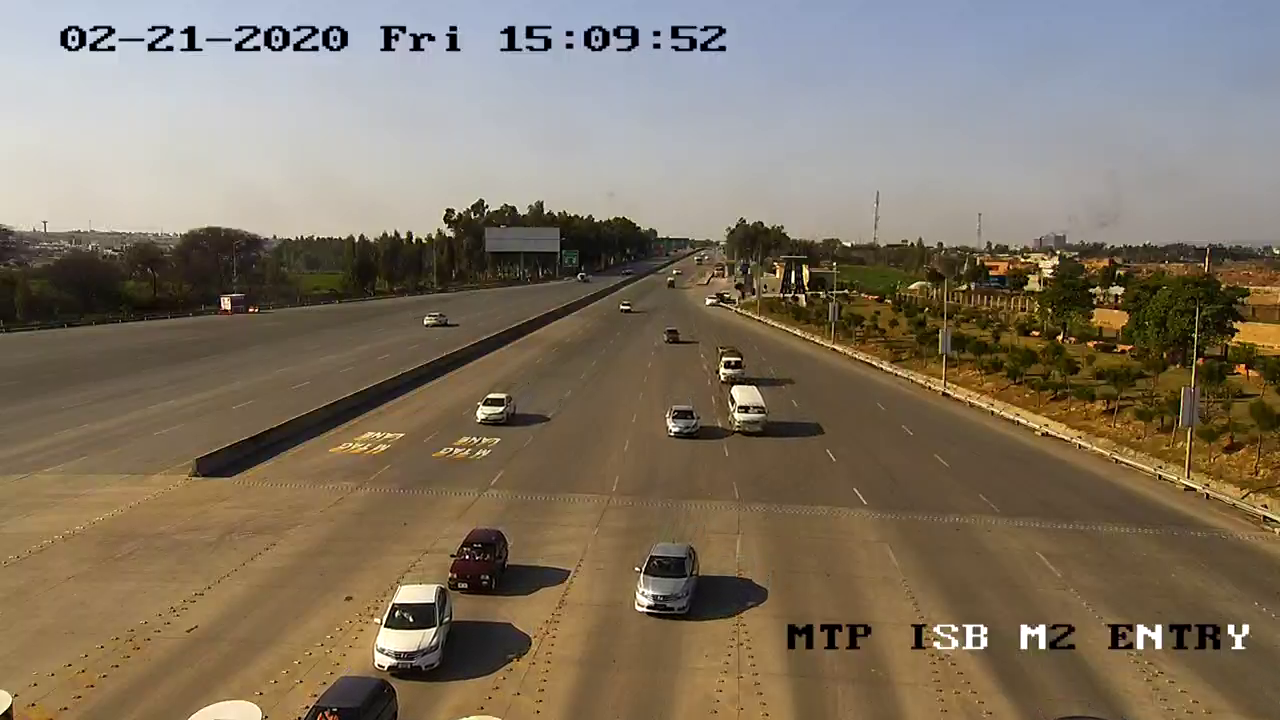f1: (369, 577, 456, 678), (627, 537, 707, 626), (446, 524, 515, 593), (468, 389, 520, 430), (662, 399, 706, 446)
f2: (723, 380, 773, 440)
